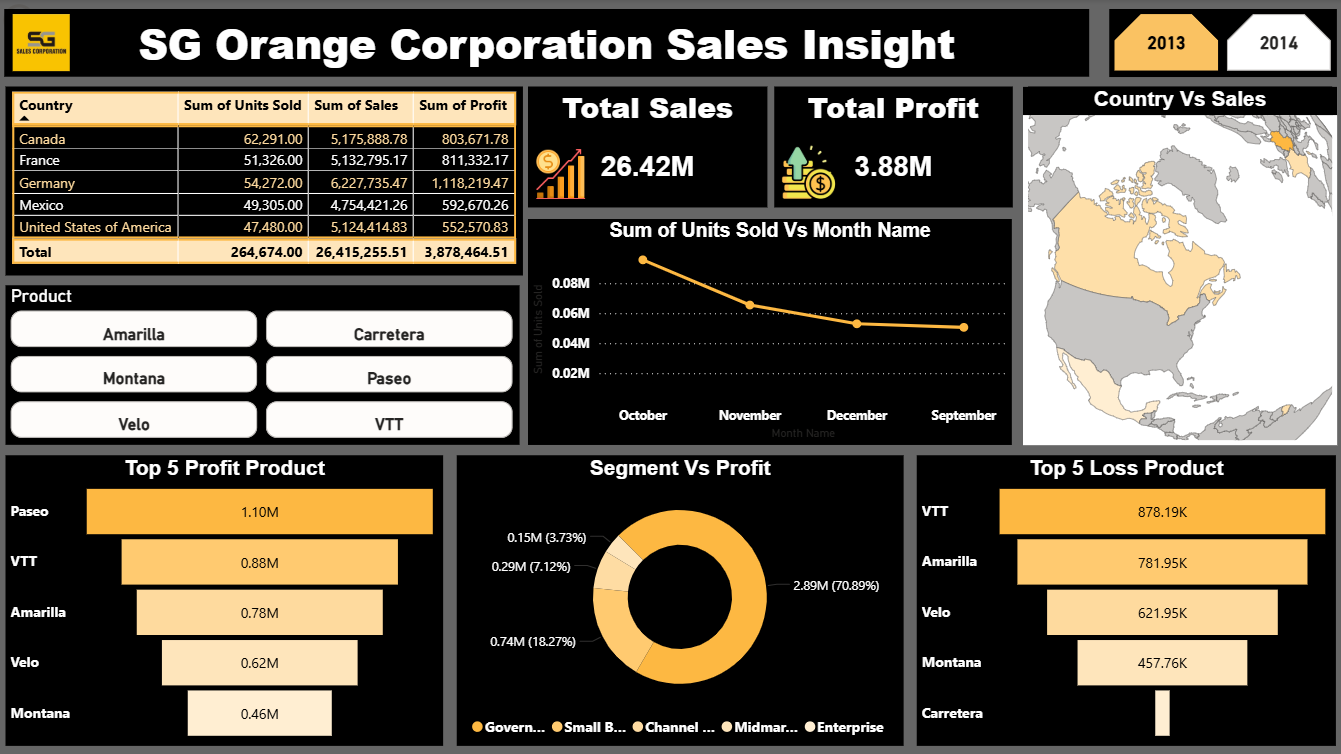

This screenshot's page, from the dashboard's own definition file:
{"tool":"powerbi","page":{"name":"Page 1","canvas":[1280,720],"ordinal":0},"visuals":[{"type":"advancedSlicerVisual","fields":{"Values":["Sheet1.Year"]},"box":[1058,9.6,216.8,64.5],"z":0},{"type":"shapeMap","title":"Country Vs Sales","fields":{"Category":["Sheet1.Country"],"Value":["Sum(Sheet1. Sales)"]},"box":[975.6,83.7,299.1,341.7],"z":1000},{"type":"donutChart","title":"Segment Vs Profit","fields":{"Category":["Sheet1.Segment"],"Y":["Sum(Sheet1.Profit)"]},"box":[436.4,435,425.4,277.2],"z":2000},{"type":"funnel","title":"Top 5 Profit Product","fields":{"Category":["Sheet1.Product"],"Y":["Sum(Sheet1.Profit)"]},"box":[6.9,435,417.2,277.2],"z":3000},{"type":"funnel","title":"Top 5 Loss Product","fields":{"Category":["Sheet1.Product"],"Y":["Sum(Sheet1.Profit)"]},"box":[875.5,435,399.3,277.2],"z":4000},{"type":"tableEx","fields":{"Values":["Sheet1.Country","Sum(Sheet1.Units Sold)","Sum(Sheet1. Sales)","Sum(Sheet1.Profit)"]},"box":[6.9,83.7,492.6,179.8],"z":5000},{"type":"actionButton","box":[0,0,100,40],"z":6000},{"type":"advancedSlicerVisual","fields":{"Values":["Sheet1.Product"]},"box":[6.9,273.1,489.9,152.3],"z":7000},{"type":"card","title":"Total Sales","fields":{"Values":["Sum(Sheet1. Sales)"]},"box":[505,83.6,227.8,115.3],"z":8000},{"type":"card","title":"Total Profit","fields":{"Values":["Sum(Sheet1.Profit)"]},"box":[739,83.6,227,115.3],"z":9000},{"type":"shape","title":"Orange Corporation Sales","box":[6.5,9.6,1033.3,64.5],"z":10000},{"type":"image","box":[6.5,9.6,70,64.5],"z":11000},{"type":"image","box":[499.6,138.5,71.4,57.6],"z":12000},{"type":"image","box":[738,133,67.2,63.1],"z":13000},{"type":"lineChart","title":"Sum of Units Sold Vs Month Name","fields":{"Category":["Sheet1.Month Name"],"Y":["Sum(Sheet1.Units Sold)"]},"box":[505,209.9,461.1,215.4],"z":14000}]}

Visuals, with their boxes in screenshot pixels (x1, y1, x2, y2), scaled from the page's 1280x720 canvas onto the 1341x754 screenshot:
advancedSlicerVisual - Sheet1.Year: (1108, 10, 1336, 78)
"Country Vs Sales" shapeMap: (1022, 88, 1335, 445)
"Segment Vs Profit" donutChart: (457, 456, 903, 746)
"Top 5 Profit Product" funnel: (7, 456, 444, 746)
"Top 5 Loss Product" funnel: (917, 456, 1336, 746)
tableEx - Sheet1.Country x Sum(Sheet1.Units Sold): (7, 88, 523, 276)
actionButton: (0, 0, 105, 42)
advancedSlicerVisual - Sheet1.Product: (7, 286, 520, 445)
"Total Sales" card: (529, 88, 768, 208)
"Total Profit" card: (774, 88, 1012, 208)
"Orange Corporation Sales" shape: (7, 10, 1089, 78)
image: (7, 10, 80, 78)
image: (523, 145, 598, 205)
image: (773, 139, 844, 205)
"Sum of Units Sold Vs Month Name" lineChart: (529, 220, 1012, 445)
